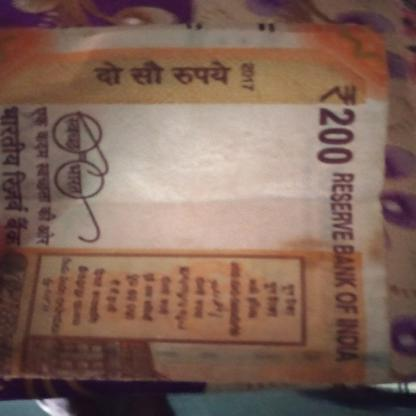New200Back: (0, 28, 375, 380)
